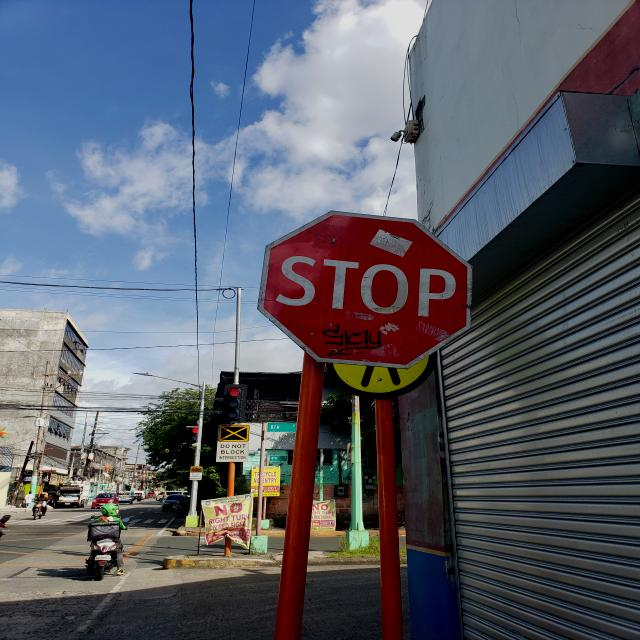stop-sign: (256, 210, 473, 369)
